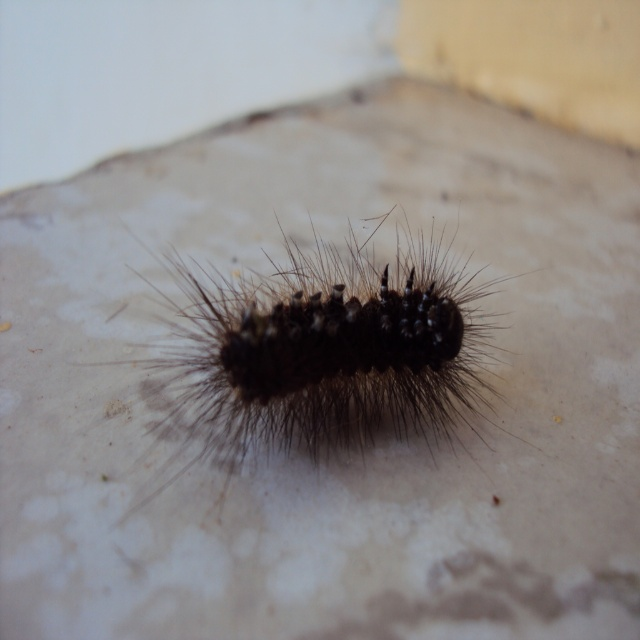Caterpillar: (66, 197, 557, 536)
